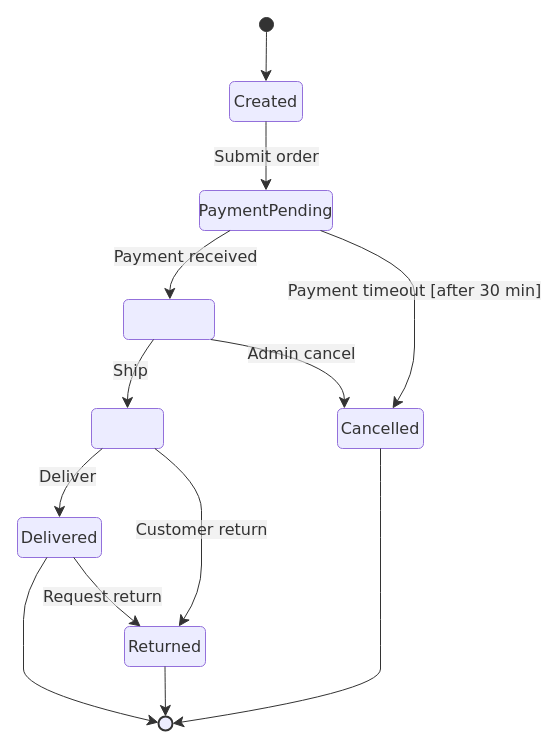
Some shapes in this 559 by 749 pixel diagram are drawn without their labels. Each missing label, with the box of its shape:
Confirmed: (122, 298, 214, 340)
Shipped: (90, 408, 164, 448)
